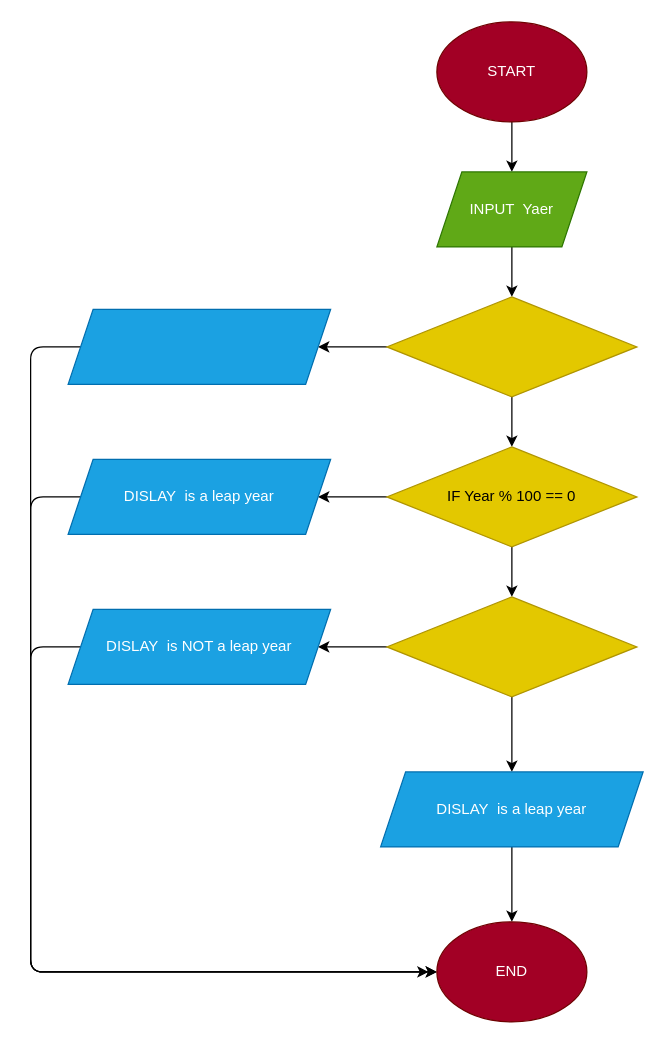
Some shapes in this 665 by 1044 pixel diagram are drawn without their labels. Each missing label, with the box of its shape:
IF Year % 4 == 0: (386, 296, 637, 397)
IF Year % 400 == 0: (386, 596, 637, 697)
is NOT a leap year: (67, 308, 331, 384)
